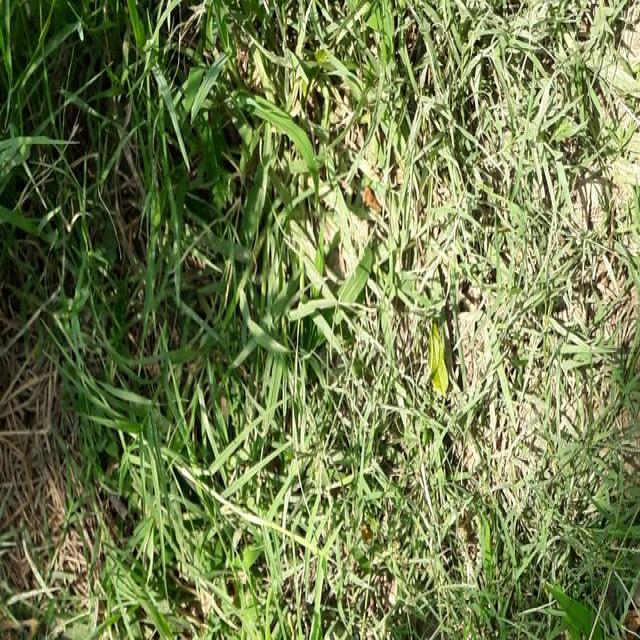weed: (0, 0, 371, 624), (387, 477, 640, 639)
